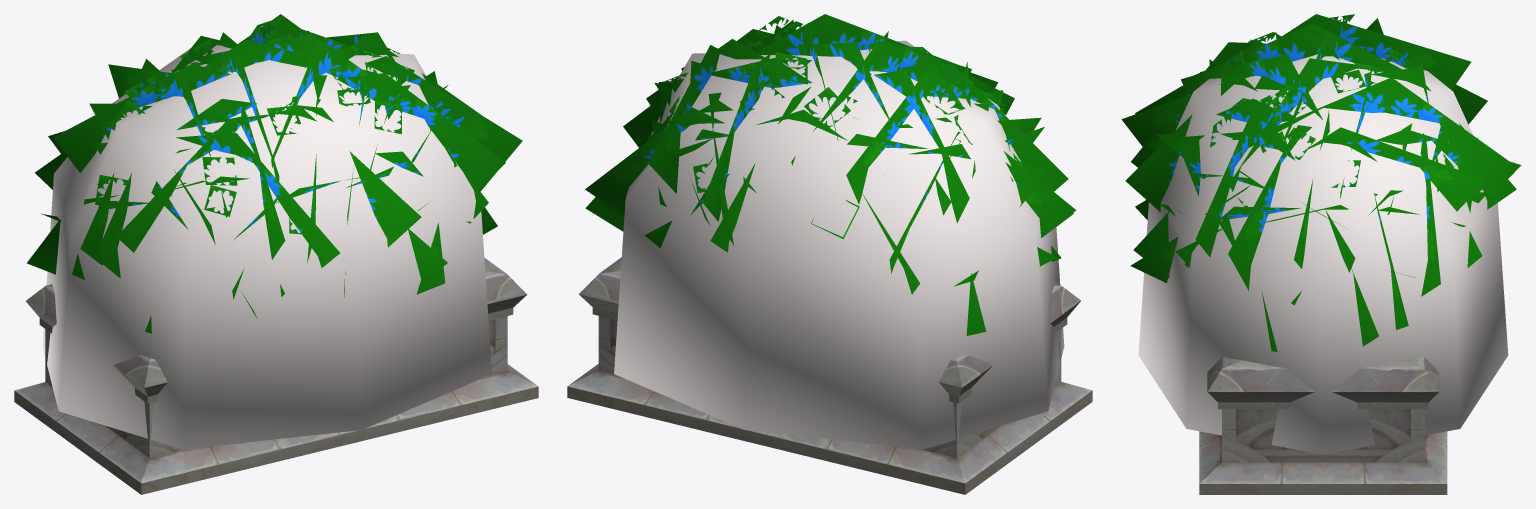
The model's file is Homeworld_Exterior_Xm_Flower_Prop_DalishiHuatan_03_Lod0.fbx.
3 renders of one model, left to right at view 1: azimuth 30°, elevation 25°; view 2: azimuth 150°, elevation 25°; view 3: azimuth 270°, elevation 25°, orthographic. The views are drawn at different scales.
Visible parts, largest first — view 1: EffectMesh, Area_Xm_Grass_Common_Shrub_02_Lod0, Area_Xm_Prop_XKC_Chengshidalishi_02_Lod0; view 2: EffectMesh, Area_Xm_Grass_Common_Shrub_02_Lod0, Area_Xm_Prop_XKC_Chengshidalishi_02_Lod0; view 3: EffectMesh, Area_Xm_Grass_Common_Shrub_02_Lod0, Area_Xm_Prop_XKC_Chengshidalishi_02_Lod0.
Boxes of the visible parts, x1,y1,x2,y2 form: EffectMesh: (42, 45, 491, 449); Area_Xm_Grass_Common_Shrub_02_Lod0: (27, 14, 522, 333); Area_Xm_Prop_XKC_Chengshidalishi_02_Lod0: (14, 257, 538, 494); EffectMesh: (614, 40, 1064, 449); Area_Xm_Grass_Common_Shrub_02_Lod0: (585, 14, 1075, 335); Area_Xm_Prop_XKC_Chengshidalishi_02_Lod0: (567, 257, 1092, 494); EffectMesh: (1138, 54, 1508, 454); Area_Xm_Grass_Common_Shrub_02_Lod0: (1121, 14, 1521, 351); Area_Xm_Prop_XKC_Chengshidalishi_02_Lod0: (1199, 357, 1447, 494).
Size of the model in its own units: 2.68 by 2.21 by 2.25.
